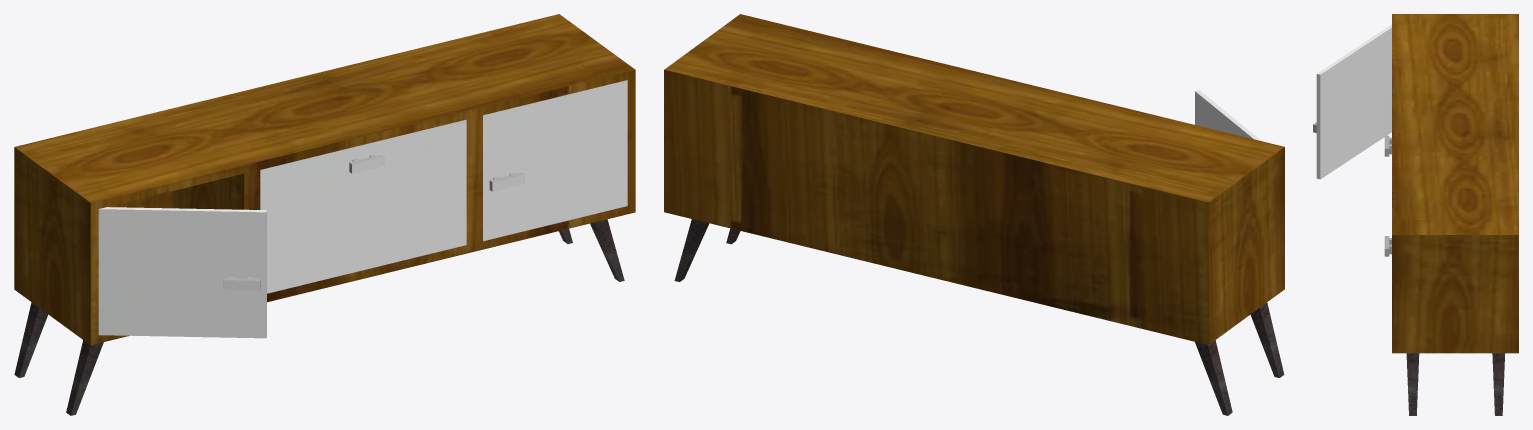
The model's file is sideboard.glb.
3 views of the same model, side by side, from view 1: azimuth 30°, elevation 25°; view 2: azimuth 150°, elevation 25°; view 3: azimuth 270°, elevation 25° (orthographic). The views are drawn at different scales.
Parts seen in each view (by area): view 1: movel_lambert1_0; view 2: movel_lambert1_0; view 3: movel_lambert1_0.
Part boxes in pixels (x1=…): movel_lambert1_0: x1=14, y1=14, x2=635, y2=415; movel_lambert1_0: x1=664, y1=14, x2=1284, y2=415; movel_lambert1_0: x1=1313, y1=14, x2=1518, y2=415.
Bounding box in the file's own units: 1.99 × 0.7499 × 0.7711.
Materials: 2 (2 with a texture image).
